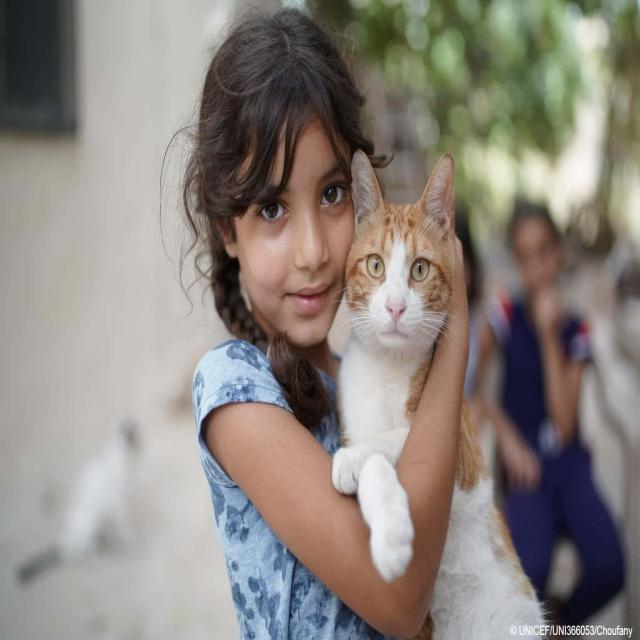Cat: (339, 141, 463, 363)
